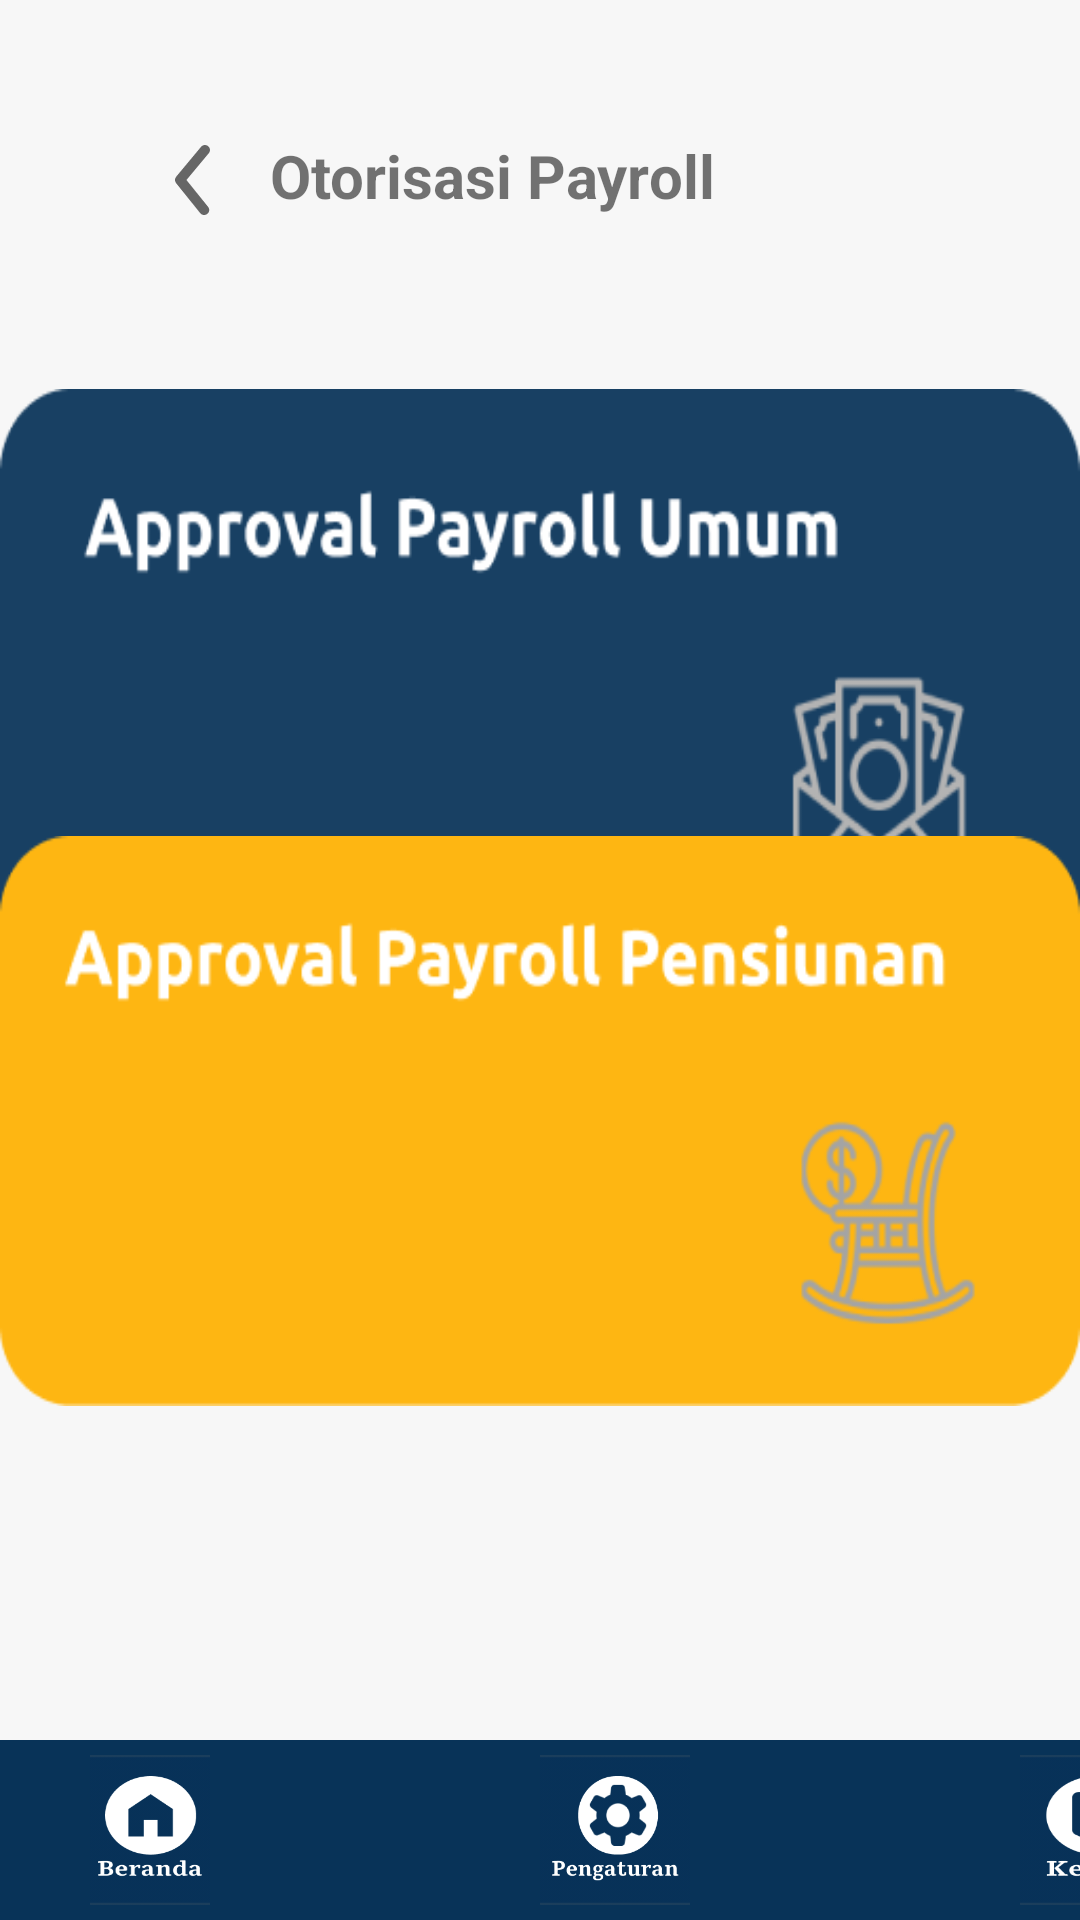

Named icons in this screenshot (1080x1920) and their centers, [x,y]:
back arrow: [192,180]
